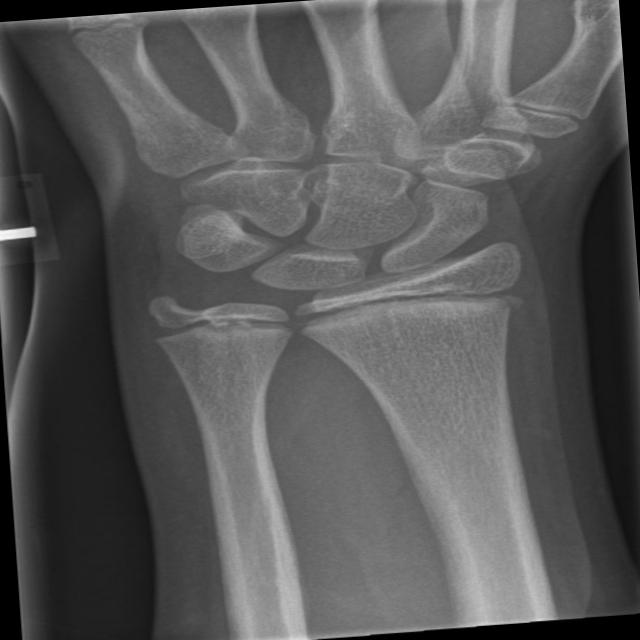fracture: (282, 274, 546, 341), (140, 297, 310, 359)
